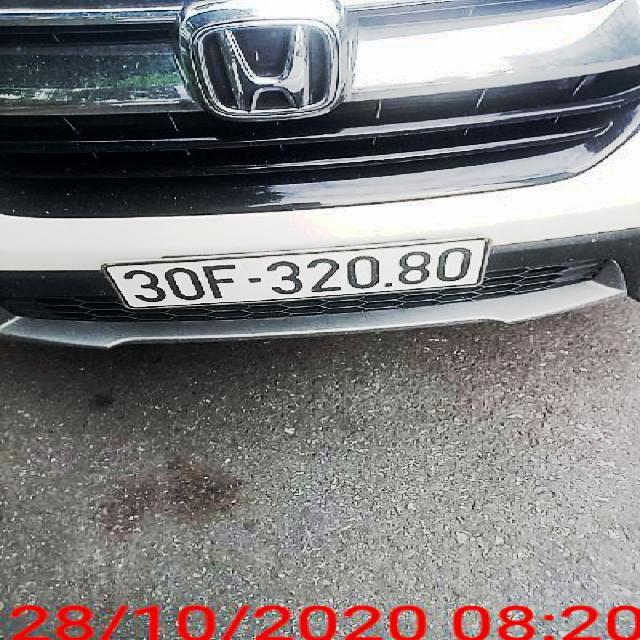license_plate: (106, 238, 492, 310)
